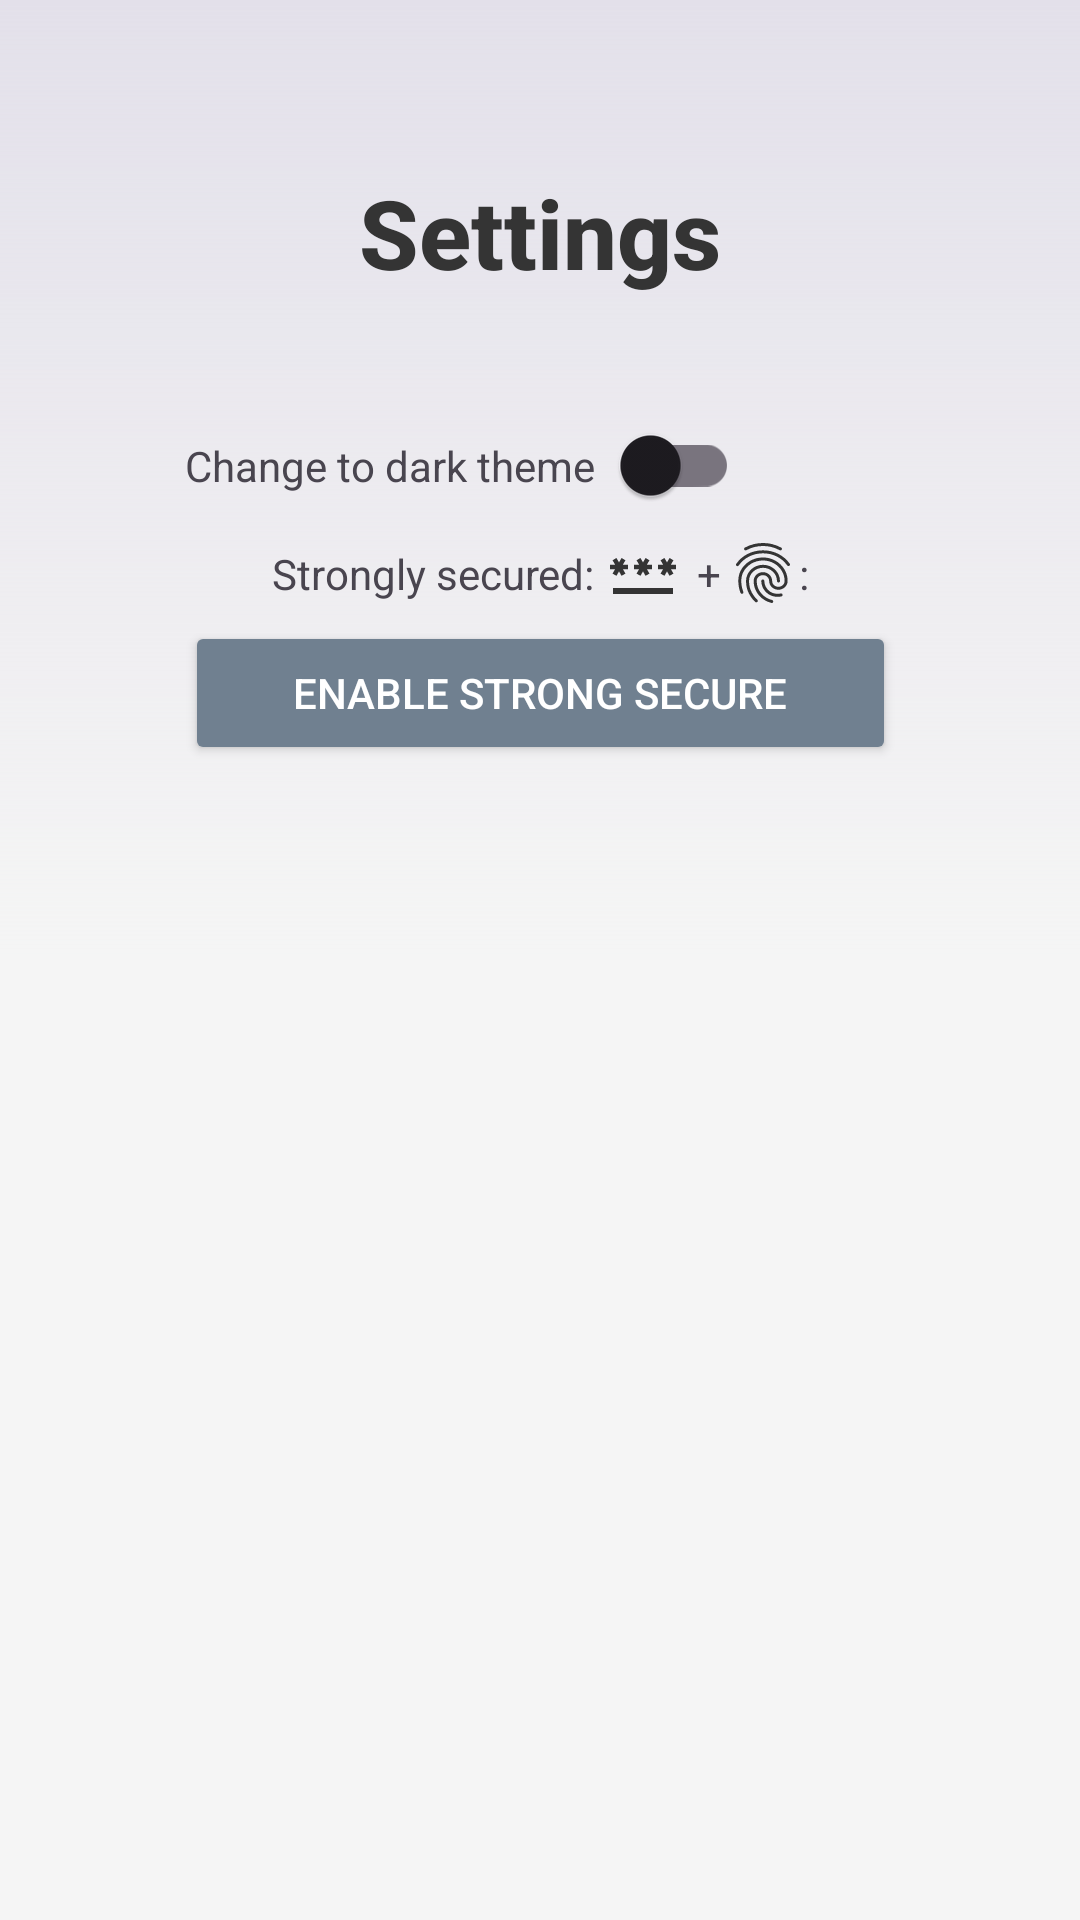

Named icons in this screenshot (1080*1920) and their centers, (x=x, y=y):
fingerprint: (x=763, y=573)
password: (x=643, y=576)
